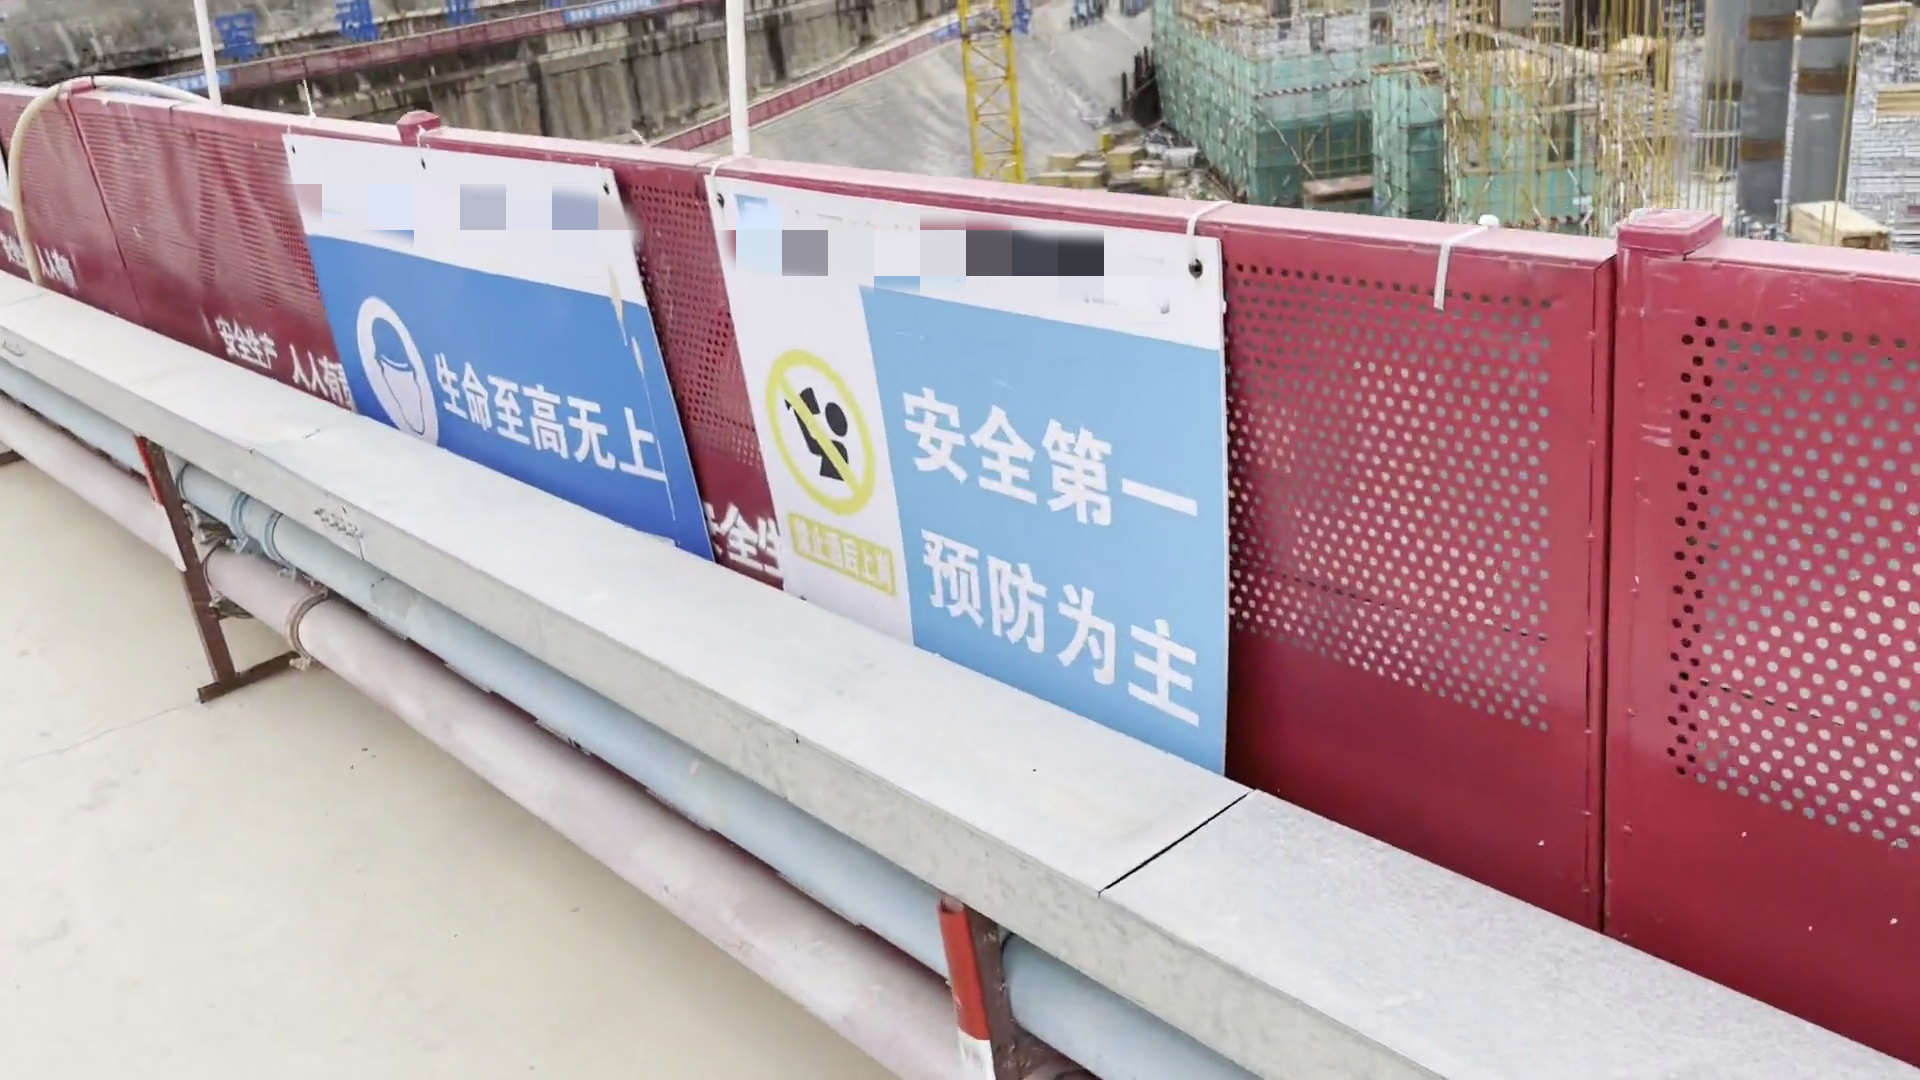board: (1785, 181, 1898, 253)
fence: (1236, 199, 1920, 1073), (771, 162, 1261, 800), (381, 108, 785, 596), (1, 76, 392, 431)
slogan: (683, 157, 1348, 803), (262, 108, 727, 576), (556, 4, 687, 30), (164, 57, 240, 100)
wood: (1036, 156, 1108, 189), (1101, 146, 1145, 173)
